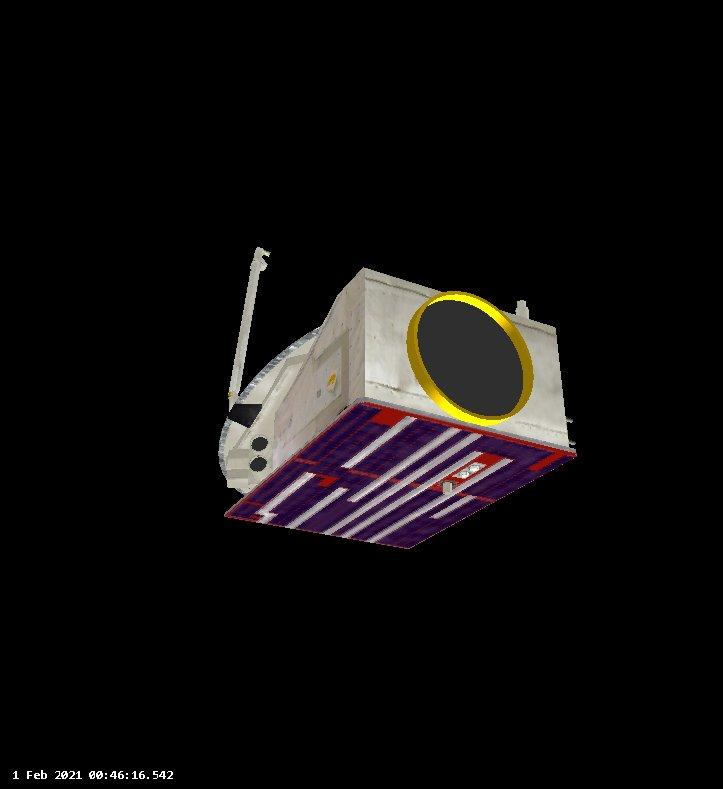antenna: (216, 241, 324, 499)
body: (239, 266, 575, 503)
solar: (223, 396, 579, 554)
thruster: (406, 287, 536, 429), (246, 433, 272, 451), (247, 454, 270, 472)
